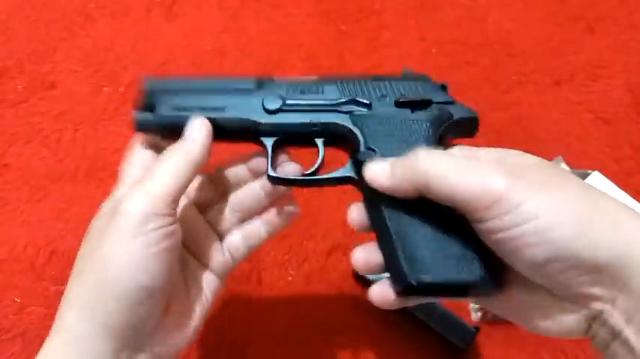pistol: (133, 58, 504, 308)
